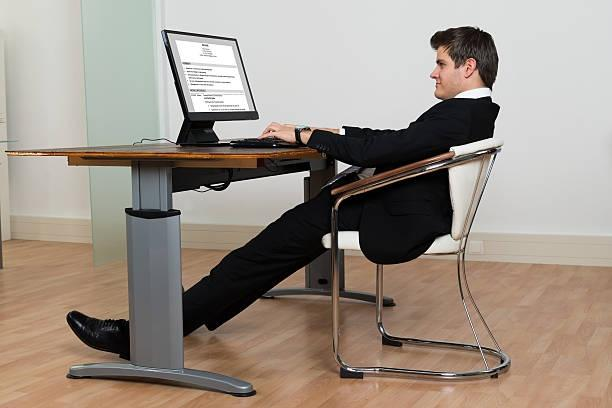bad-pose: (0, 0, 612, 408)
